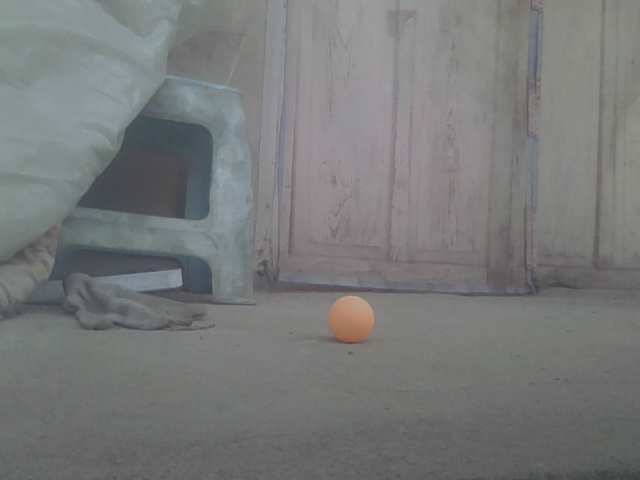ball: (329, 297, 375, 345)
